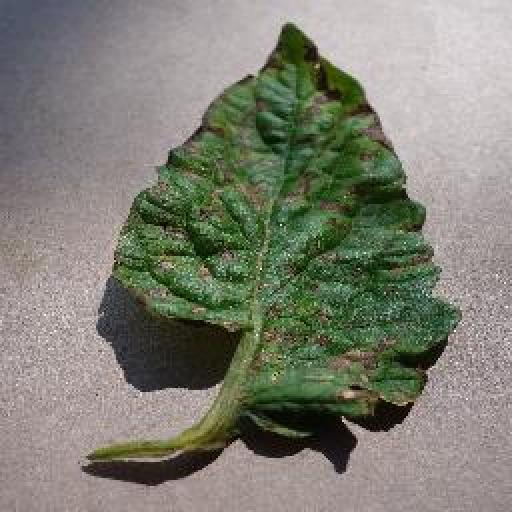Early Blight: (115, 18, 464, 442)
